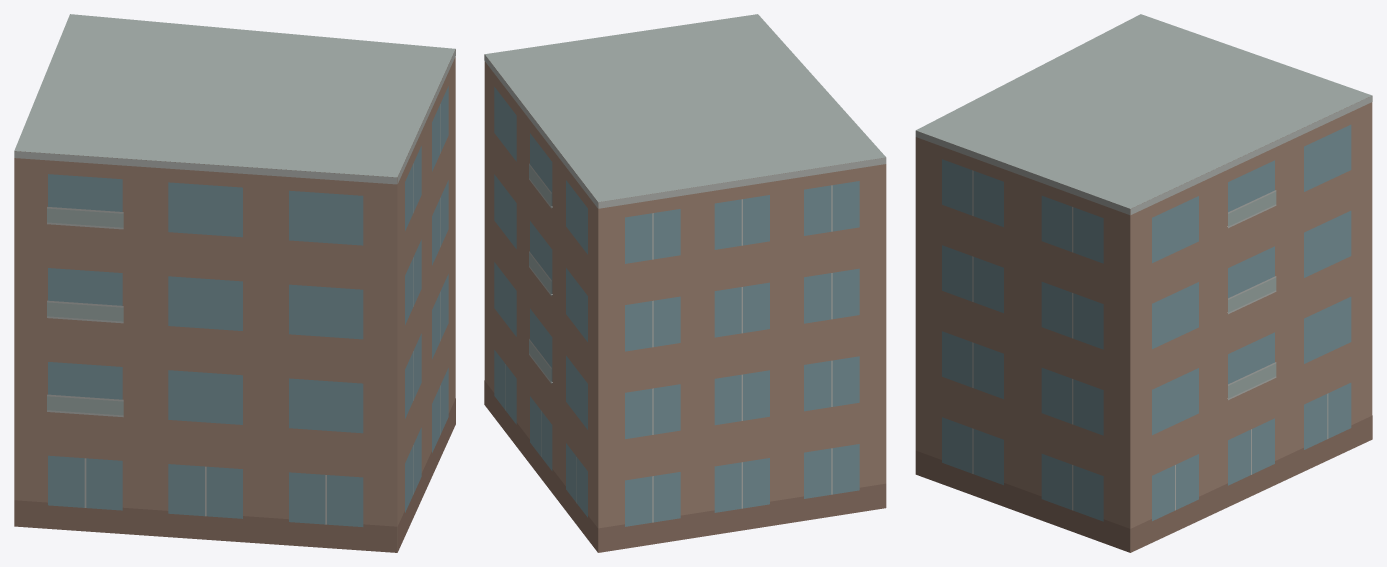
File: survey-upis-32659450.glb
3 renders of one model, left to right at view 1: azimuth 30°, elevation 25°; view 2: azimuth 150°, elevation 25°; view 3: azimuth 270°, elevation 25°, orthographic. The views are drawn at different scales.
Parts seen in each view (by area): view 1: survey-upis-32659450.tmp; view 2: survey-upis-32659450.tmp; view 3: survey-upis-32659450.tmp.
Part boxes in pixels (<box>): survey-upis-32659450.tmp: <box>14,14,455,552</box>; survey-upis-32659450.tmp: <box>484,14,886,552</box>; survey-upis-32659450.tmp: <box>915,14,1372,552</box>.
Size of the model in its own units: 15.74 by 12.95 by 15.59.
